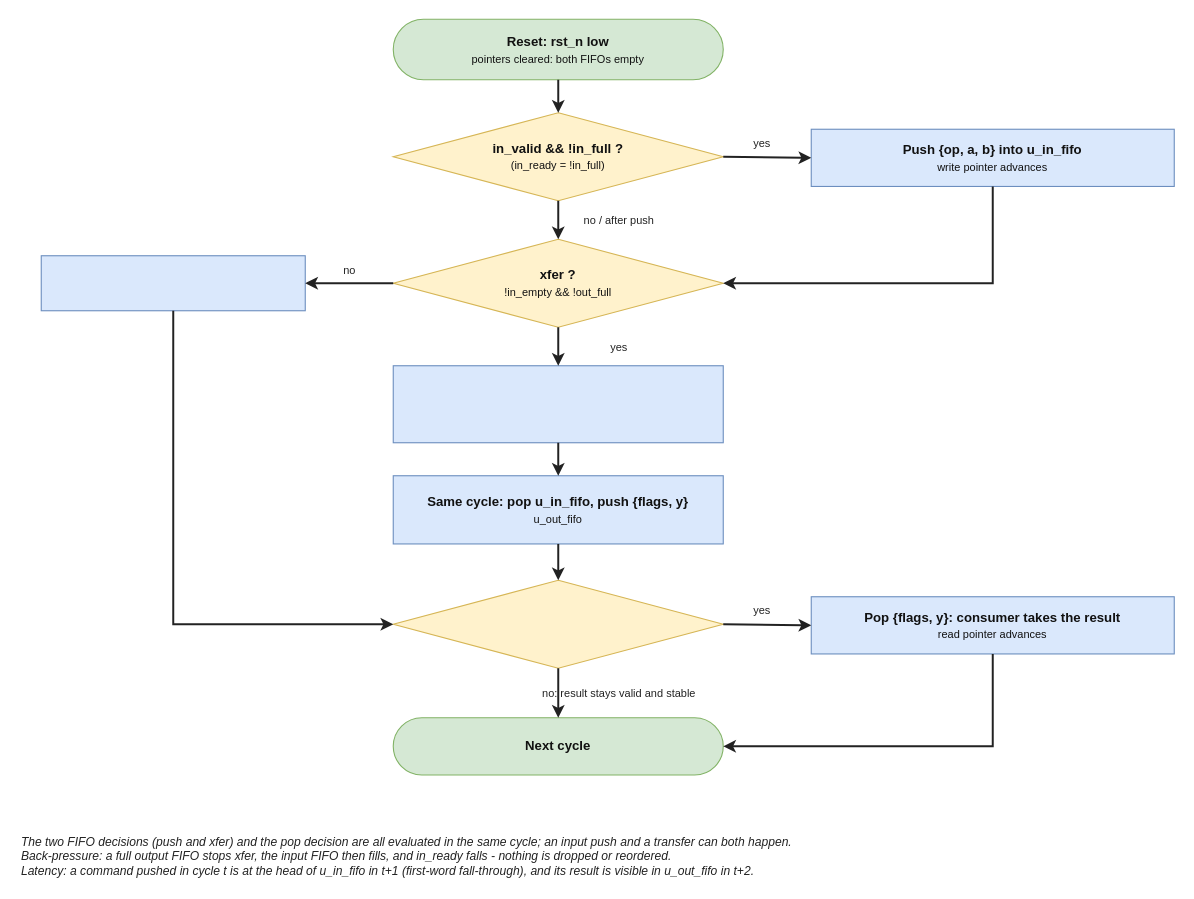
Image size: 1194x899. Some labels were removed from this diagram. The shapes that lost their labels are listed below. From the top down, each one's centre as x and y in pixels, then its label:
the point at 172,283: Hold: nothing moves in FIFO empty or out FIFO full
the point at 557,404: ALU computes y, c, v from the head op selects ADD..SLTU; flags N,Z,C,V derived
the point at 557,623: out_valid && out_ready ? (out_valid = !out_empty)
